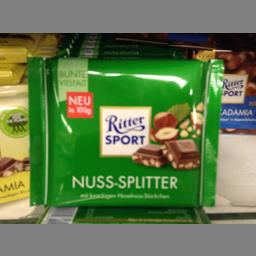chocolate: (25, 55, 222, 208)
